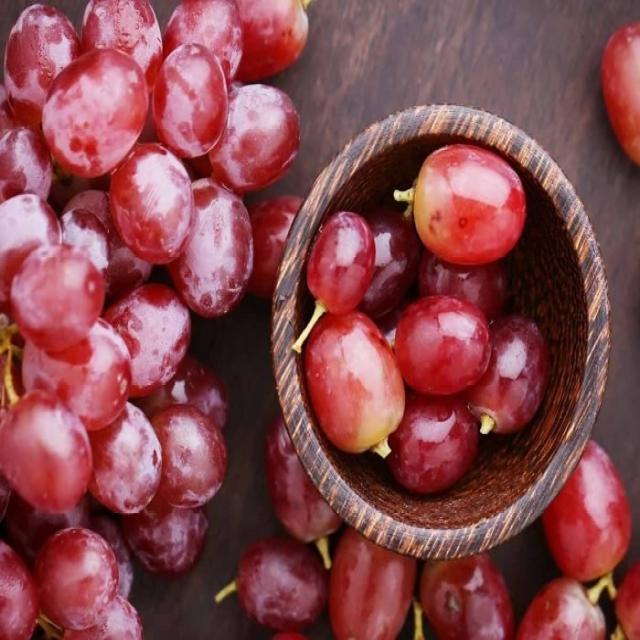grape: (0, 0, 305, 636), (292, 143, 548, 491)
